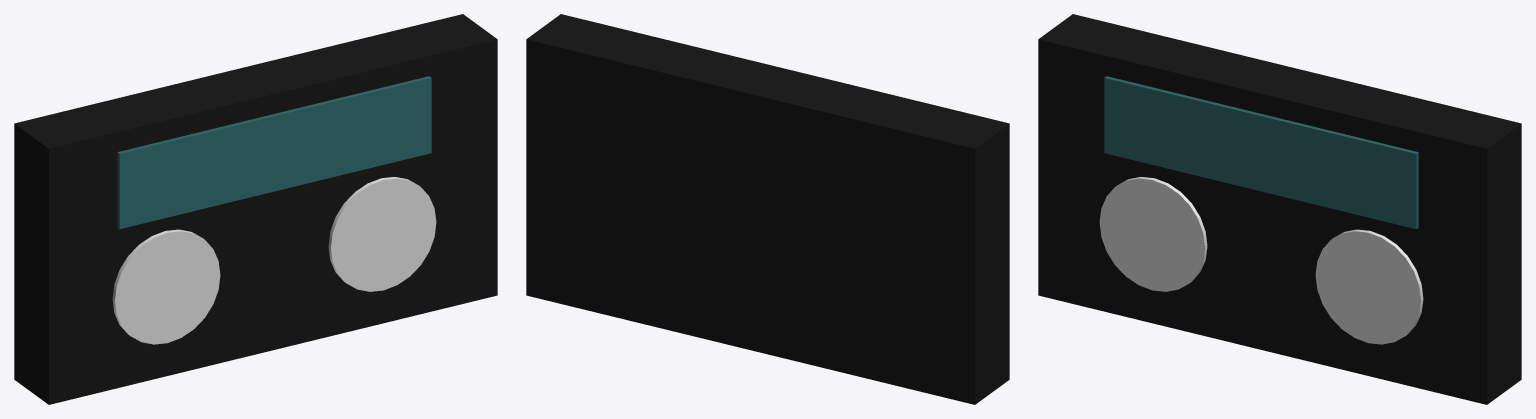
File: vhs-5.glb
The picture shows the model from 3 angles, left to right: view 1: azimuth 30°, elevation 25°; view 2: azimuth 150°, elevation 25°; view 3: azimuth 330°, elevation 25°; orthographic projection.
Bounding box in the file's own units: 0.187 × 0.102 × 0.0267.
